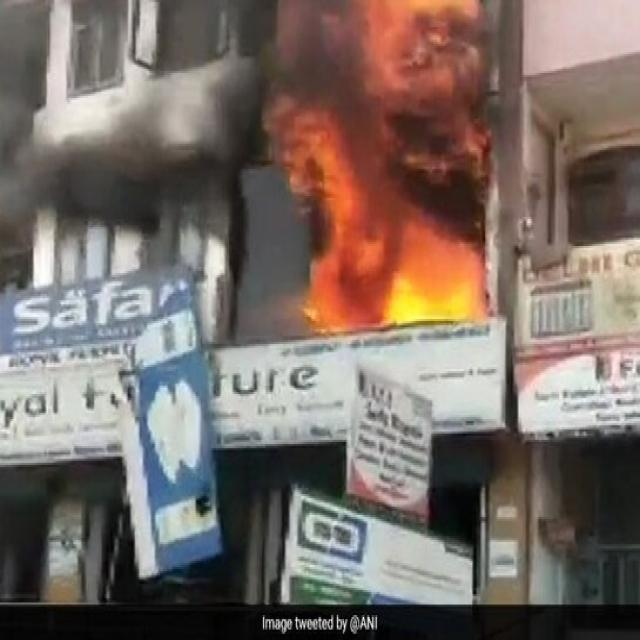fire: (262, 0, 498, 335)
